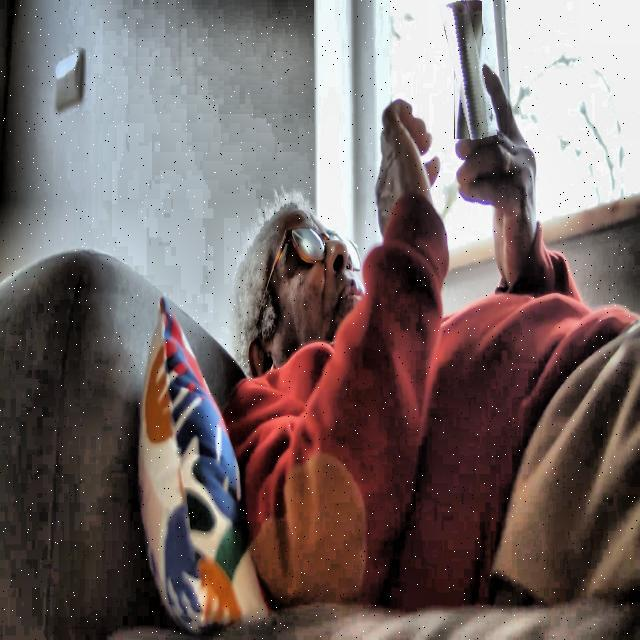Phone: (446, 0, 489, 139)
